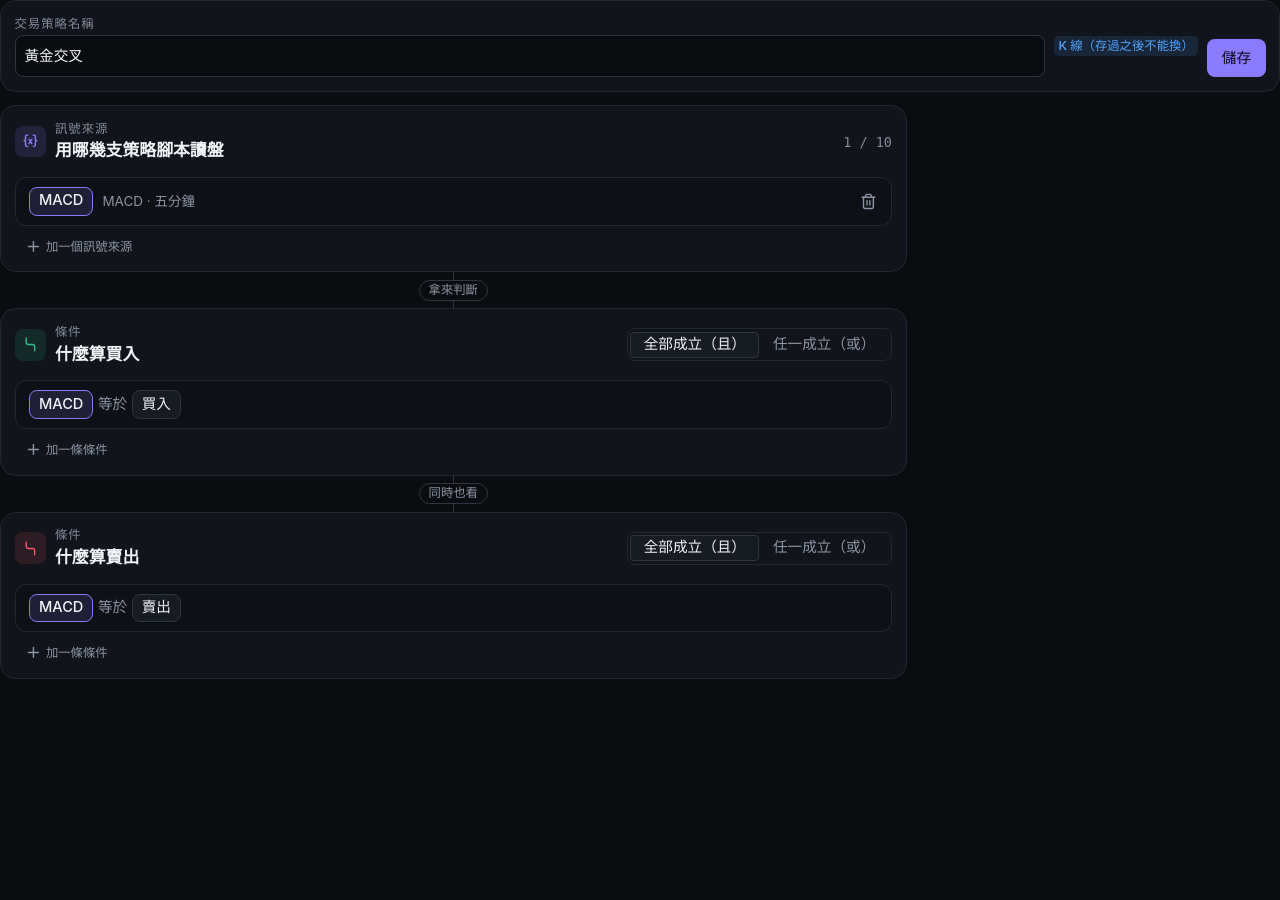
Test: TradingStrategyWorkbench：一條收好幾個信號時，把話講明白 › 收兩個時說出它其實在說什麼——並排的開關看起來像「而且」
Click the button with test id "item-buy-MACD" at (51, 400), box [14, 380, 892, 429]
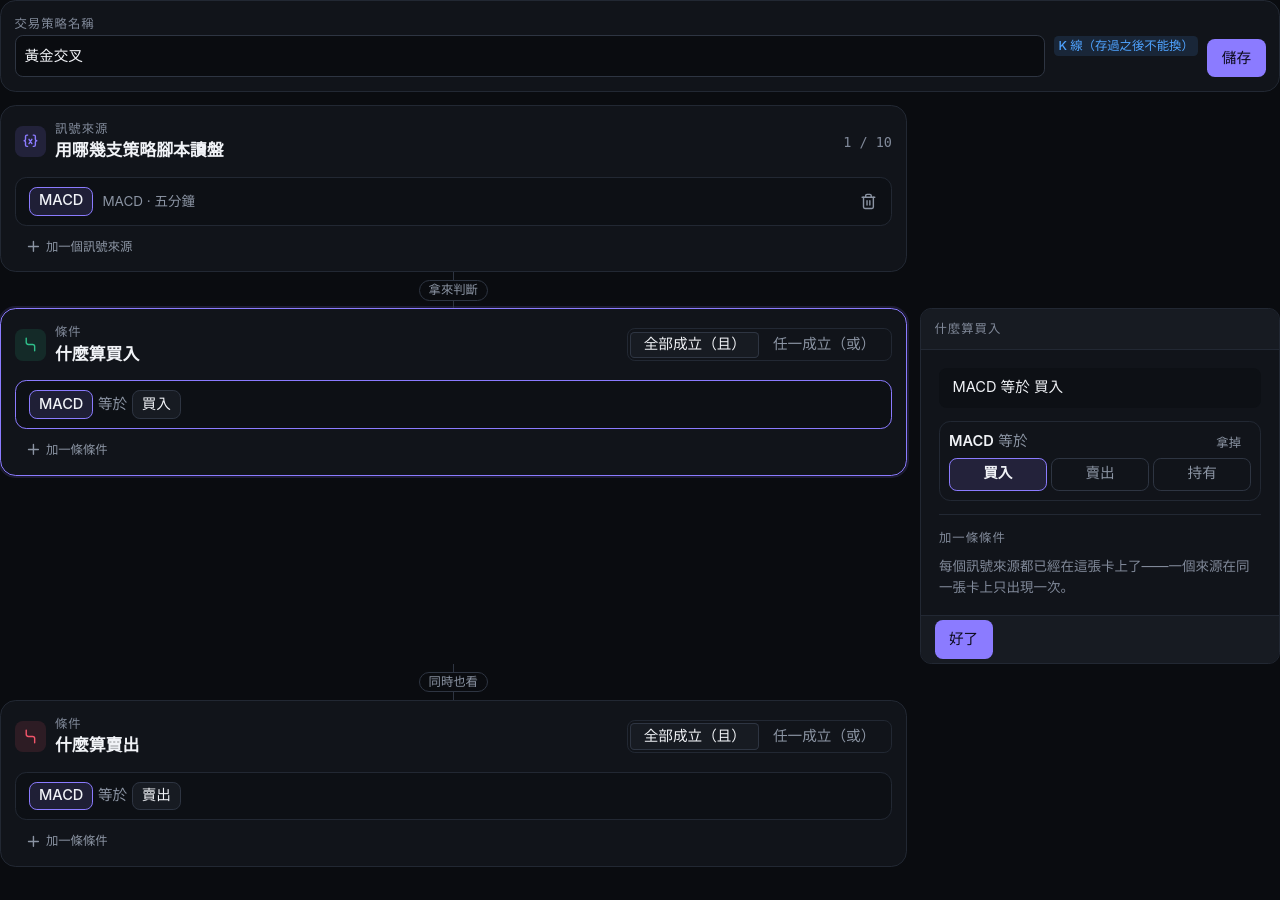
Click the button with test id "chip-buy-MACD-hold" at (1202, 474), box [1153, 458, 1251, 491]
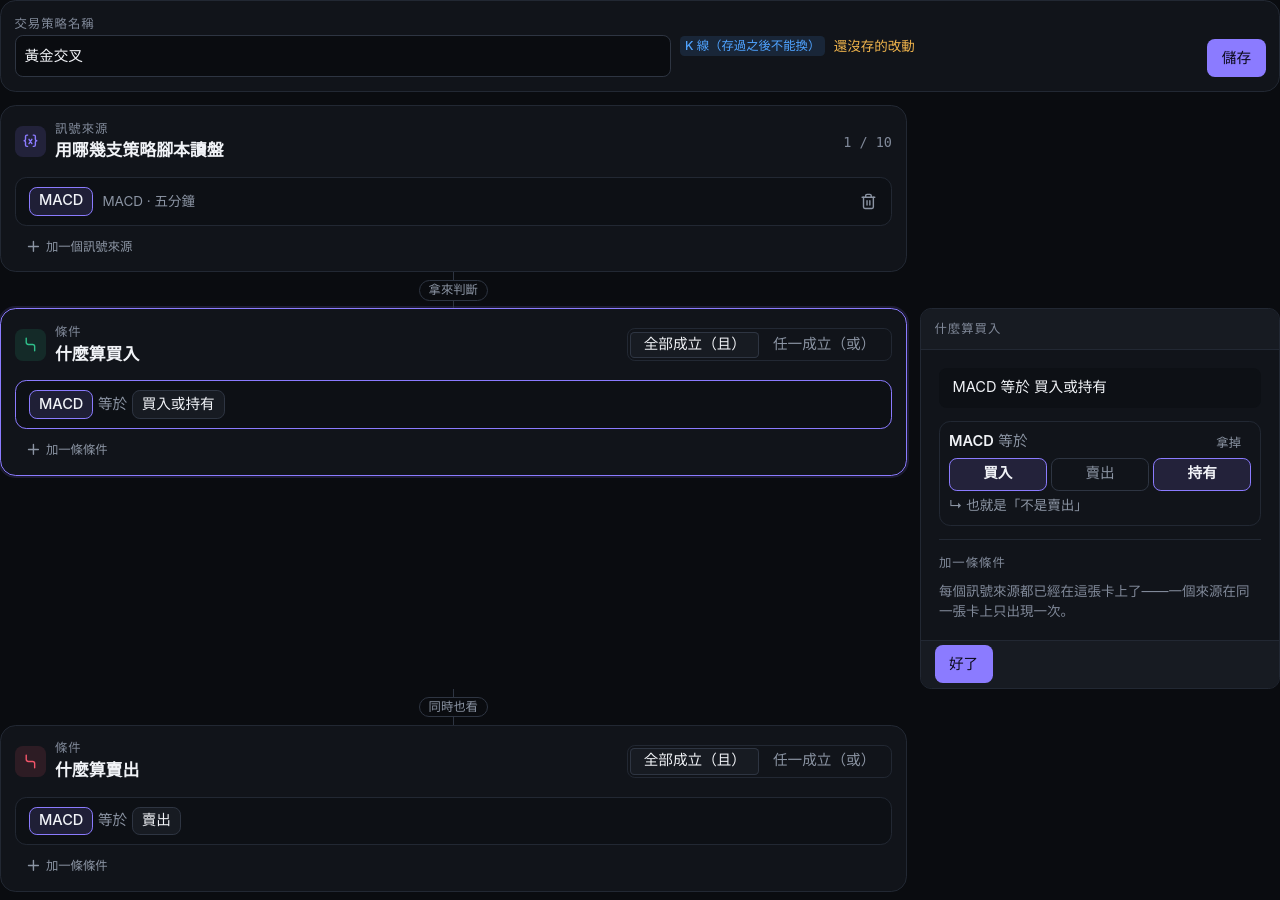
Expected: the text with test id "plain-words-buy-MACD" shows "不是賣出", [949, 497, 1088, 513]
